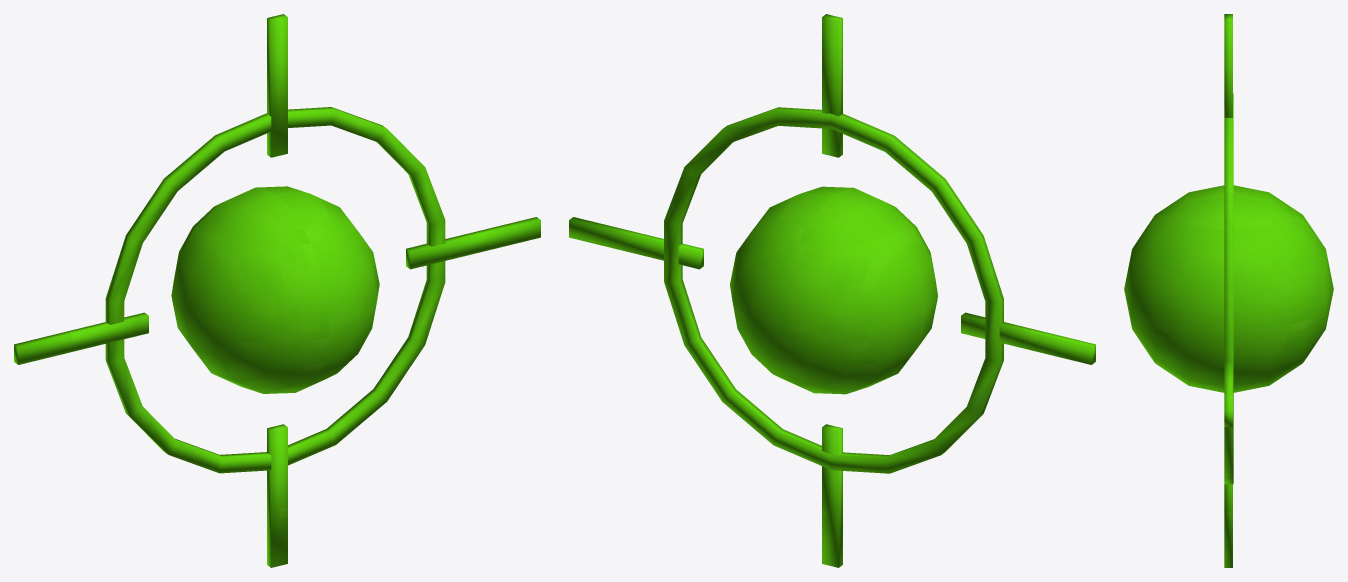
File: crosshair.obj
The picture shows the model from 3 angles, left to right: view 1: azimuth 30°, elevation 25°; view 2: azimuth 150°, elevation 25°; view 3: azimuth 270°, elevation 25°; orthographic projection.
Visible parts, largest first — view 1: Sphere006; view 2: Sphere006; view 3: Sphere006.
Part boxes in pixels (bbox=[...]): Sphere006: bbox=[14, 14, 540, 567]; Sphere006: bbox=[569, 14, 1095, 567]; Sphere006: bbox=[1124, 14, 1333, 567].
Size of the model in its own units: 13.82 by 13.82 by 4.81.
1 material, 1 textured.
